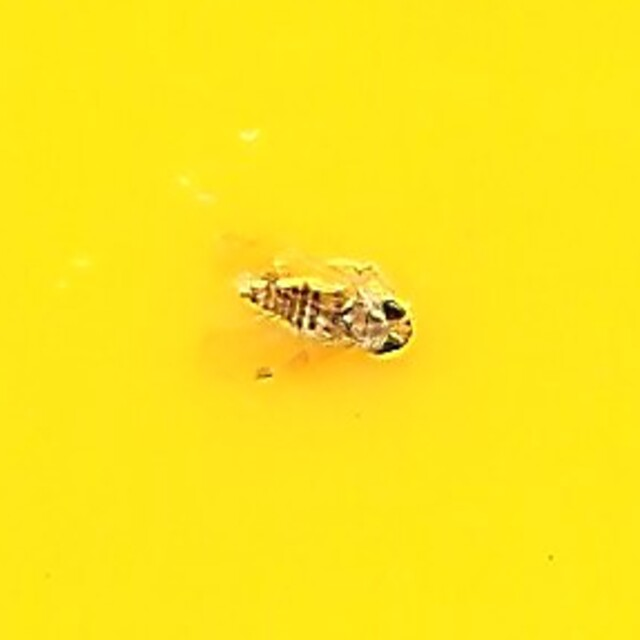Hemiptera: (223, 248, 417, 392)
